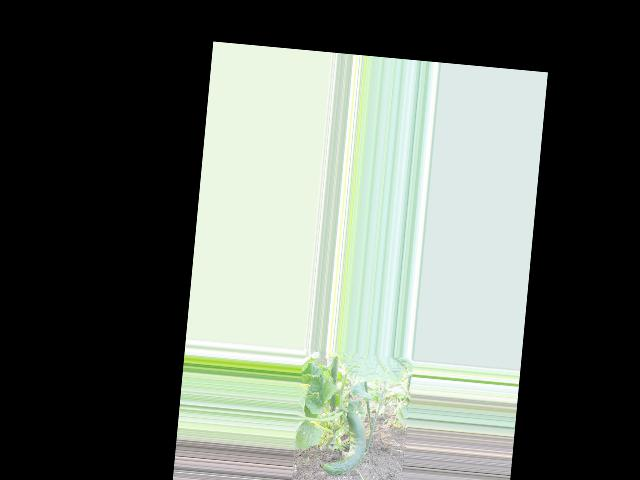cucumber: (322, 408, 369, 477)
